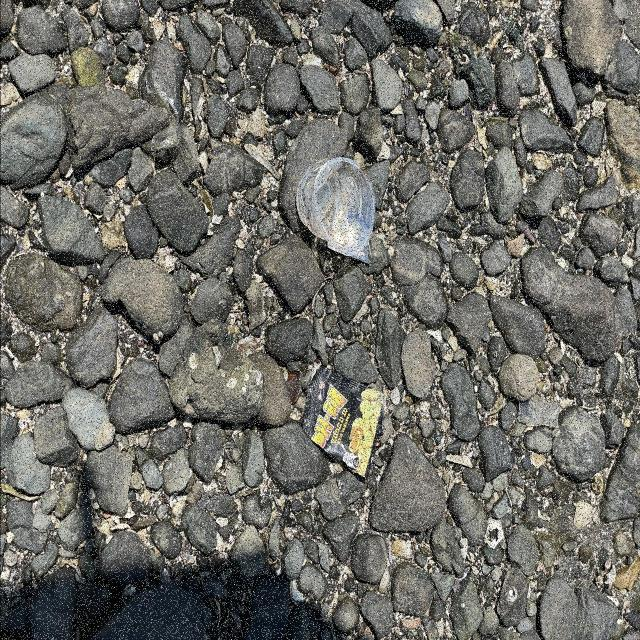plastic_waste: (300, 365, 388, 481), (294, 159, 376, 260)
